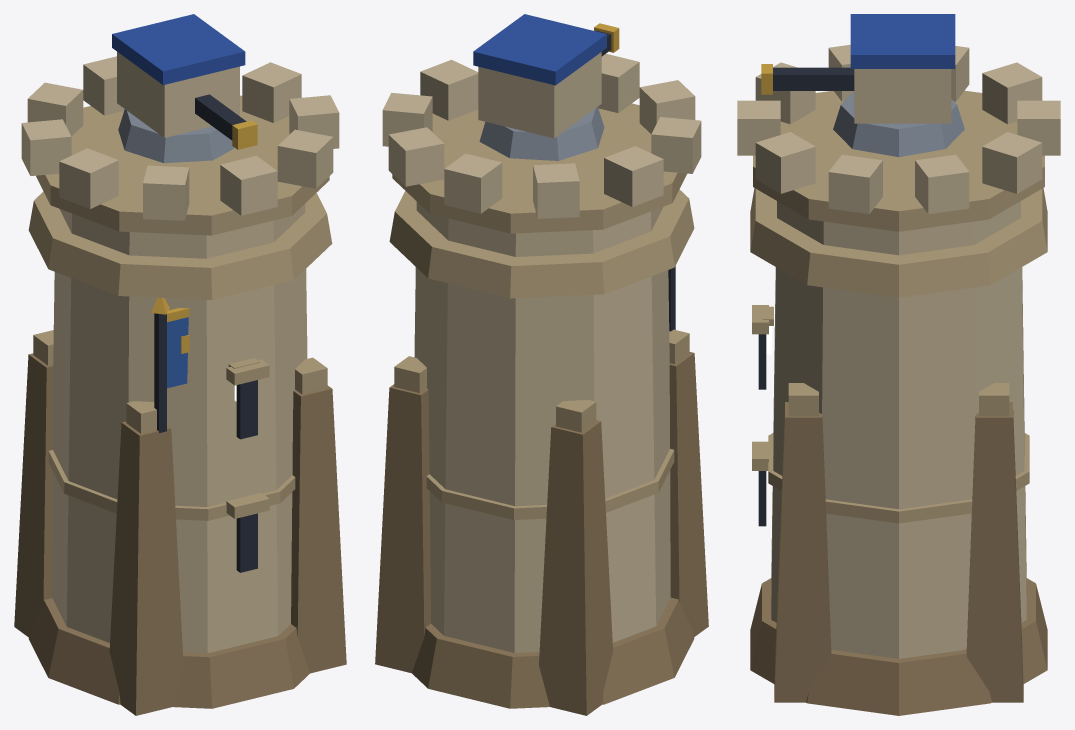
Rendered from tower_t1.glb.
The picture shows the model from 3 angles, left to right: view 1: azimuth 30°, elevation 25°; view 2: azimuth 150°, elevation 25°; view 3: azimuth 270°, elevation 25°; orthographic projection. The views are drawn at different scales.
Visible parts, largest first — view 1: body, part_turret; view 2: body, part_turret; view 3: body, part_turret.
Boxes of the visible parts, x1,y1,x2,y2 form: body: (14,56,346,715); part_turret: (112,14,257,163); body: (375,53,708,715); part_turret: (473,14,619,160); body: (737,44,1060,715); part_turret: (761,14,964,157).
Bounding box in the file's own units: 1.7 × 3.61 × 1.72.
